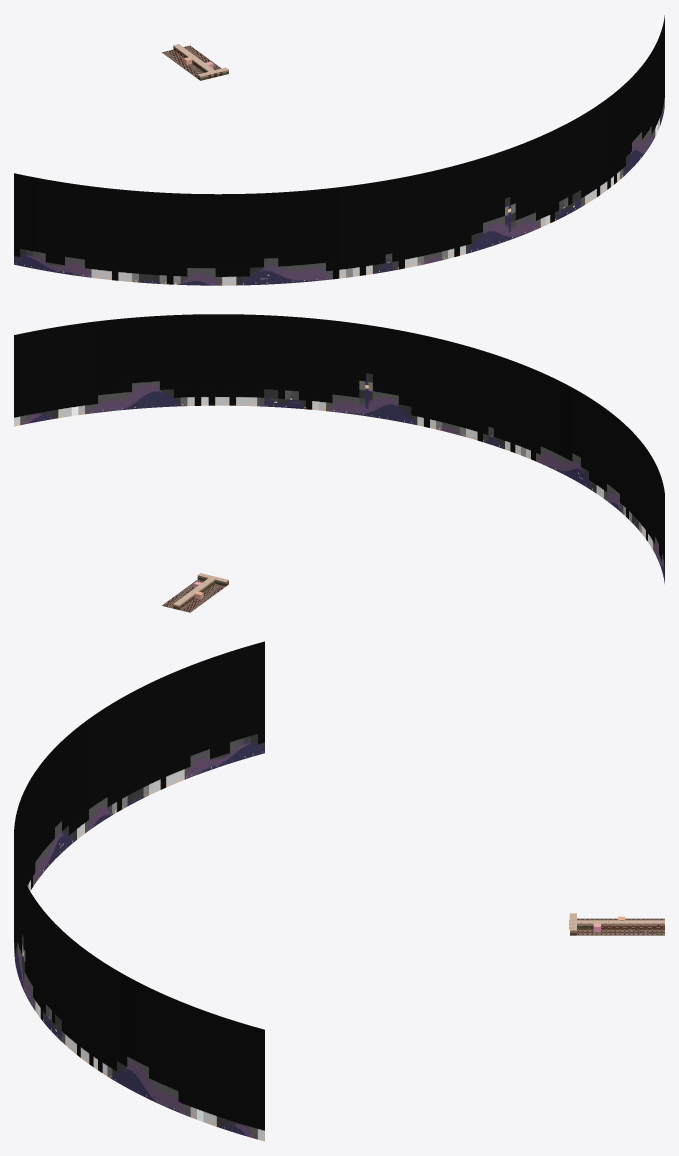
Rendered from goodboat-corridor-1.glb.
3 views of the same model, one above another, from view 1: azimuth 30°, elevation 25°; view 2: azimuth 150°, elevation 25°; view 3: azimuth 270°, elevation 25° (orthographic). The views are drawn at different scales.
Parts seen in each view (by area): view 1: object 82, object 9; view 2: object 82, object 9; view 3: object 82, object 9.
Boxes of the visible parts, <box> form: object 82: <box>14,15,664,285</box>; object 9: <box>162,45,221,78</box>; object 82: <box>14,314,664,583</box>; object 9: <box>162,579,225,612</box>; object 82: <box>14,641,264,1141</box>; object 9: <box>576,918,664,935</box>.
Bounding box in the file's own units: 387 × 51.98 × 274.
Materials: 106 (43 with a texture image).
